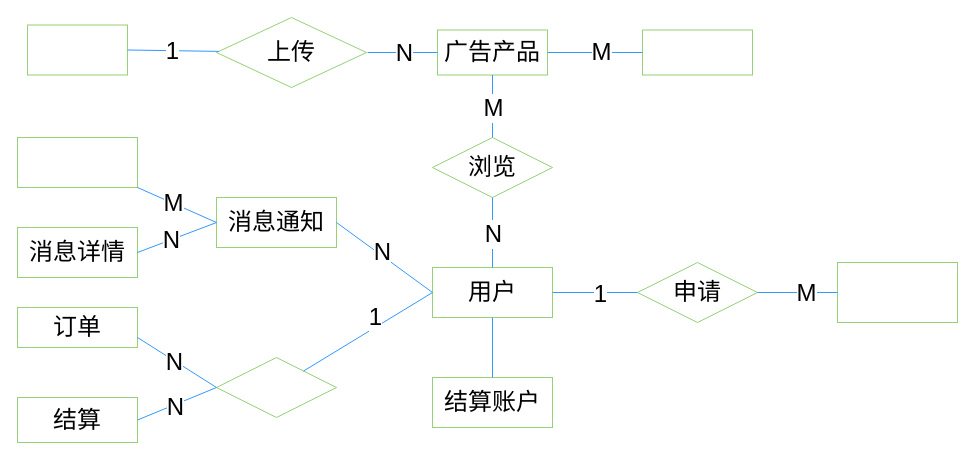
The diagram is 975 pixels wide and 460 high, and some of its shapes have lost their labels. The shapes that lost their labels are listed below. From the top down, each one's centre as x and y in pixels, then its label:
At point 77,49: "管理员".
At point 697,52: "产品分类".
At point 77,162: "消息类型".
At point 897,292: "链接".
At point 276,387: "查看".
